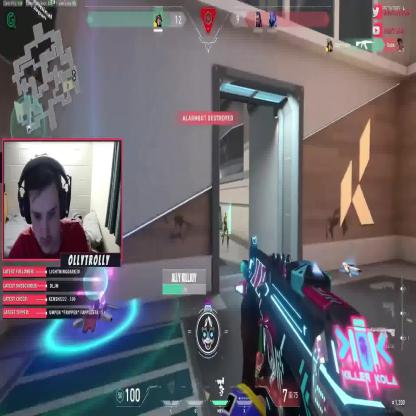enemy: (222, 211, 230, 251)
enemy_head: (224, 212, 227, 218)
